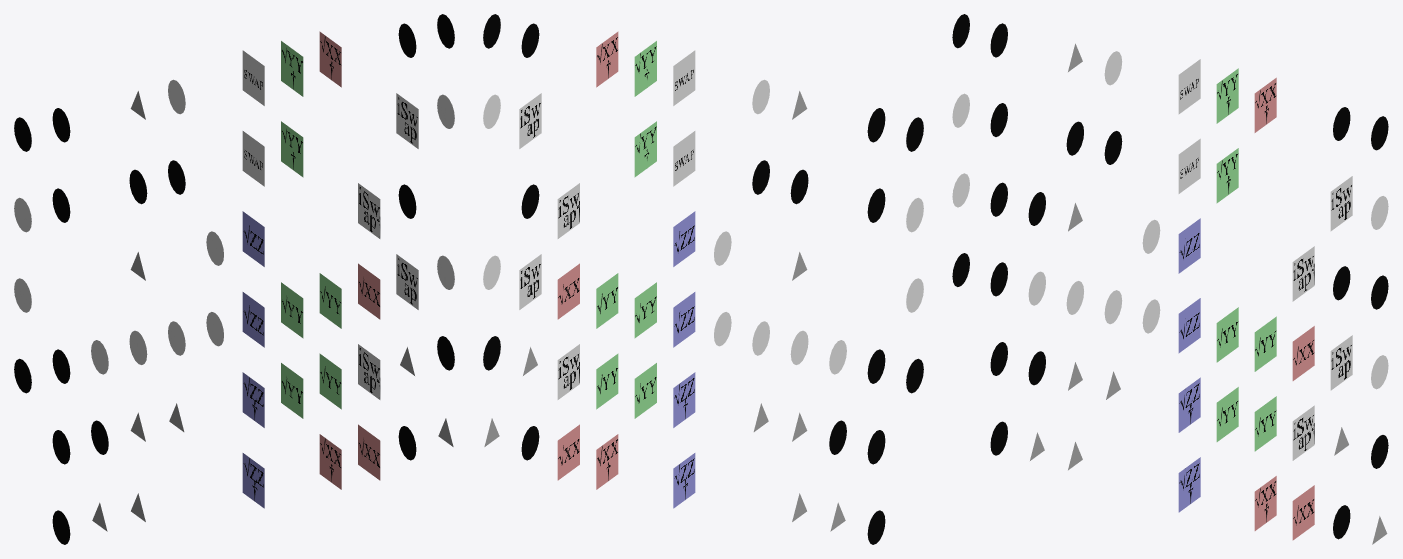
Rendered from two_qubits_gates.gltf.
3 renders of one model, left to right at view 1: azimuth 30°, elevation 25°; view 2: azimuth 150°, elevation 25°; view 3: azimuth 330°, elevation 25°, orthographic.
Bounding box in the file's own units: 11 × 11 × 1.
Materials: 6 (1 with a texture image).
